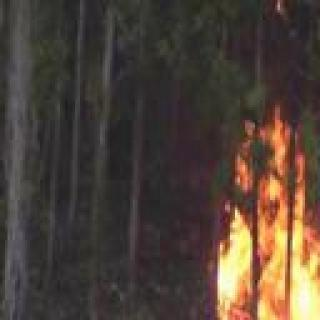fire: (158, 120, 320, 320)
